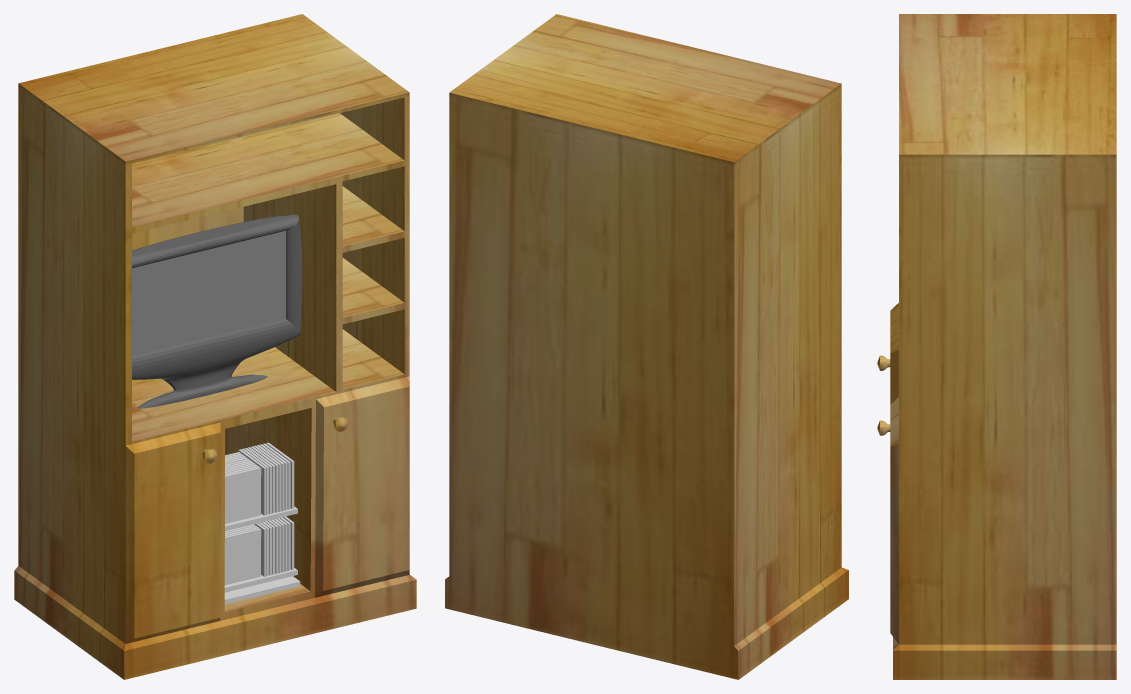
The model's file is sweethome3d-contributions-tv-center-350.glb.
3 renders of one model, left to right at view 1: azimuth 30°, elevation 25°; view 2: azimuth 150°, elevation 25°; view 3: azimuth 270°, elevation 25°, orthographic.
Visible parts, largest first — view 1: PolyMesh_1, Screen, TV, PolyMesh_2_24, PolyMesh_2_13, PolyMesh_1_1; view 2: PolyMesh_1; view 3: PolyMesh_1.
Boxes of the visible parts, box(x1,y1,x2,y2) form: PolyMesh_1: box(14, 14, 416, 679); Screen: box(132, 231, 285, 356); TV: box(132, 214, 302, 408); PolyMesh_2_24: box(224, 528, 261, 585); PolyMesh_2_13: box(225, 467, 261, 523); PolyMesh_1_1: box(224, 576, 300, 604); PolyMesh_1: box(445, 14, 848, 679); PolyMesh_1: box(890, 14, 1116, 679).
Bounding box in the file's own units: 77.21 × 130 × 53.82.
4 materials, 1 textured.
